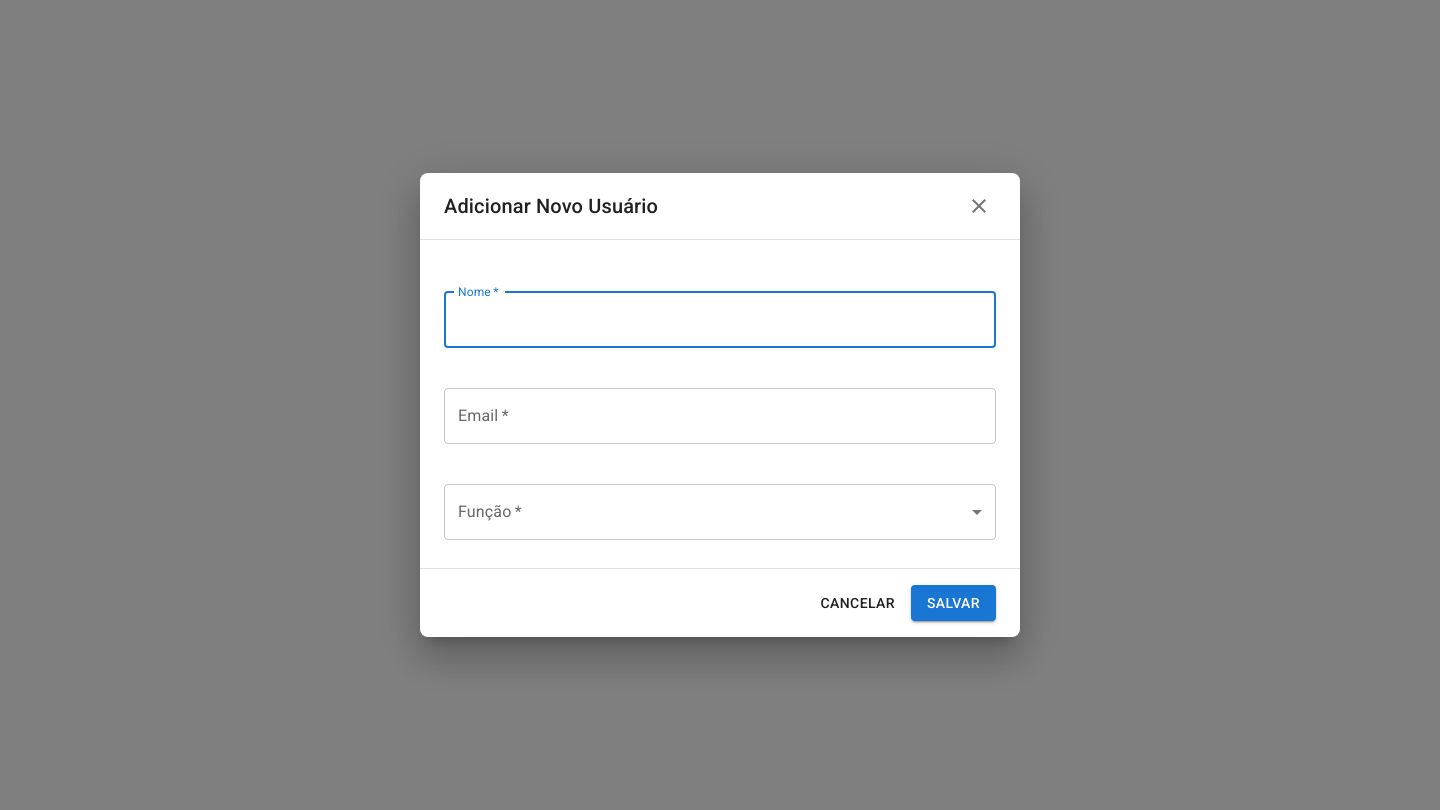
Test: UserFormModal › deve validar os campos e mostrar erros quando necessário
Note: Tenta salvar com campos vazios
Click the button "Salvar".
click(953, 603)  # box [911, 585, 996, 621]
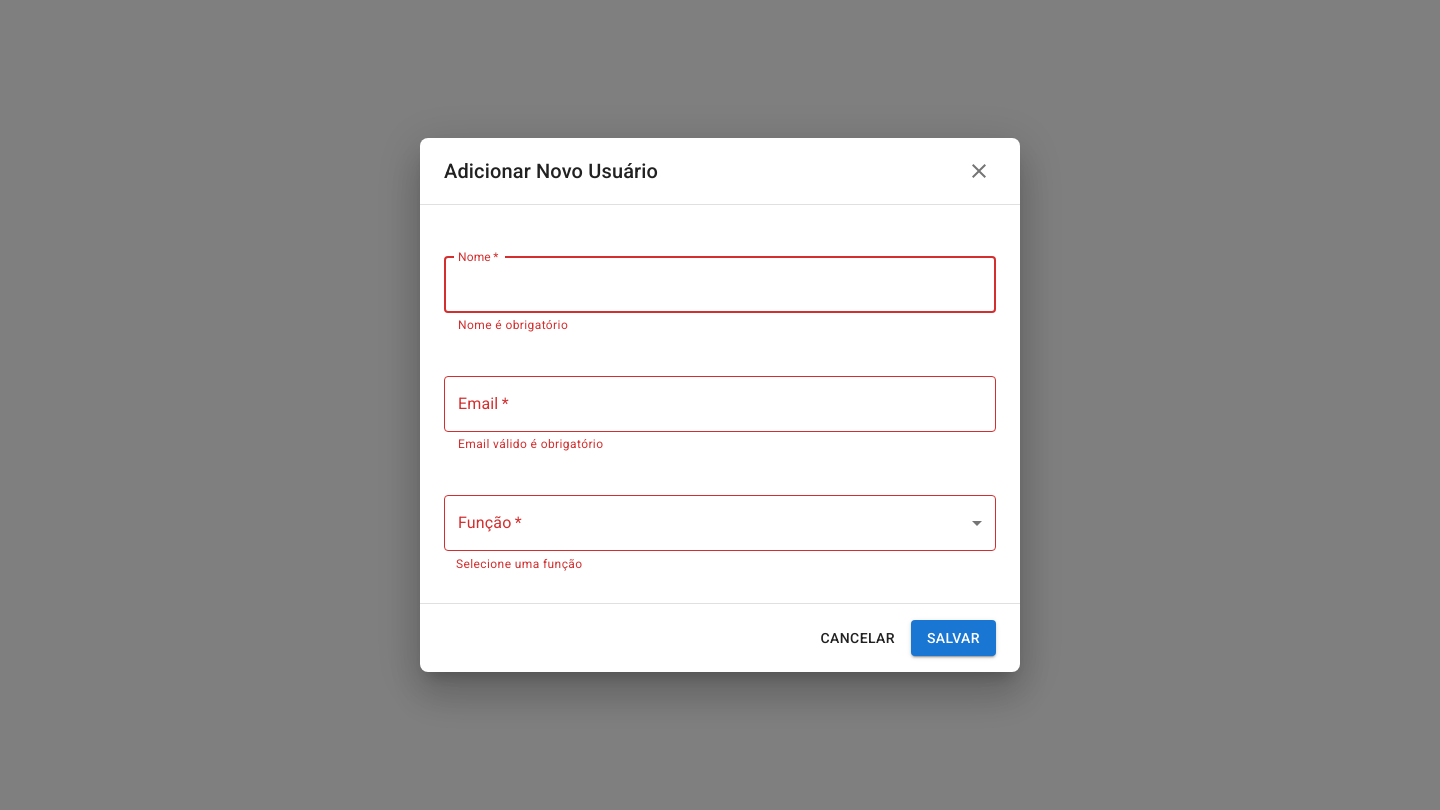
Check: the text "Nome é obrigatório" is shown, box [458, 318, 568, 332]
Check: the text "Email válido é obrigatório" is shown, box [458, 437, 603, 451]
Check: the text "Selecione uma função" is shown, box [456, 557, 582, 571]
